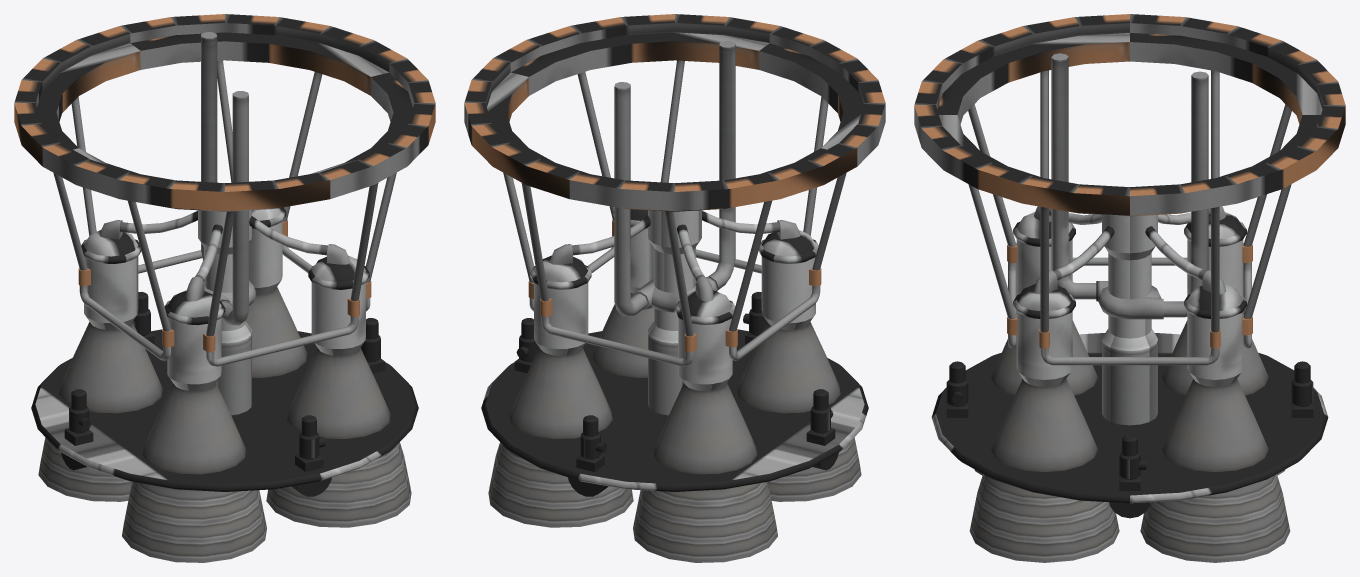
File: TLV_2_Engine_1.obj
The picture shows the model from 3 angles, left to right: view 1: azimuth 30°, elevation 25°; view 2: azimuth 150°, elevation 25°; view 3: azimuth 270°, elevation 25°; orthographic projection. The views are drawn at different scales.
Parts seen in each view (by area): view 1: TLV_2_Engine_1, TLV_2_Engine_1_Nozzles; view 2: TLV_2_Engine_1, TLV_2_Engine_1_Nozzles; view 3: TLV_2_Engine_1, TLV_2_Engine_1_Nozzles.
Part boxes in pixels (box(x1,y1,x2,y2)): TLV_2_Engine_1: box(14, 14, 435, 496); TLV_2_Engine_1_Nozzles: box(38, 287, 411, 562); TLV_2_Engine_1: box(464, 14, 885, 496); TLV_2_Engine_1_Nozzles: box(488, 293, 861, 562); TLV_2_Engine_1: box(914, 14, 1345, 518); TLV_2_Engine_1_Nozzles: box(969, 320, 1290, 562).
Size of the model in its own units: 1.25 by 1.37 by 1.25.
